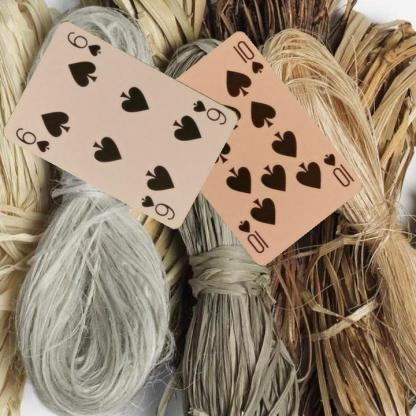10s: (320, 150, 351, 188)
6s: (190, 97, 228, 127), (14, 124, 52, 154)
